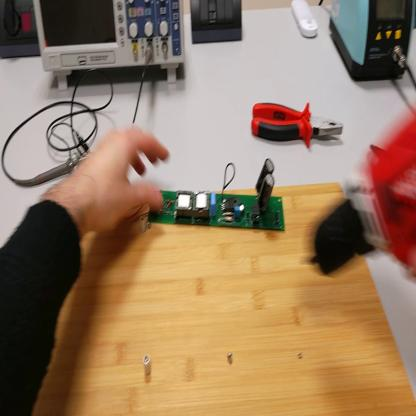electric screwdriver: (306, 108, 414, 287)
hand: (76, 128, 173, 232)
high voltage board: (126, 160, 287, 235)
oscilloscope: (40, 1, 187, 93)
oscilloscope probe tip: (17, 155, 87, 189)
pliers: (250, 99, 344, 148)
socket: (1, 2, 43, 61)
welder station: (328, 2, 416, 82)
working area: (32, 183, 416, 412)
